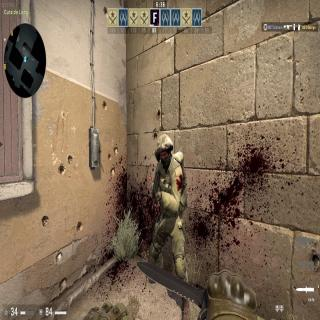T-Body: (155, 135, 183, 294)
T-Head: (154, 134, 172, 170)
